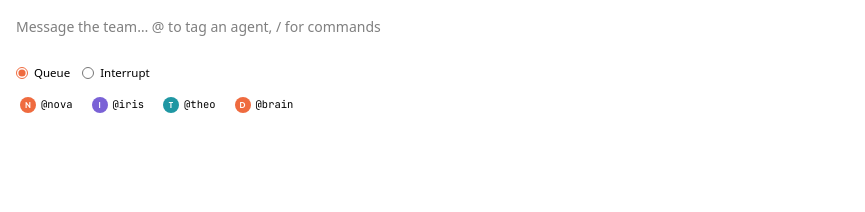
Domain composer › autocompletes a handle from the roster
The width and height of the screenshot is (865, 212).
Type "hi @th" into the text box labelled "Message" at (432,37), box [16, 16, 848, 58]
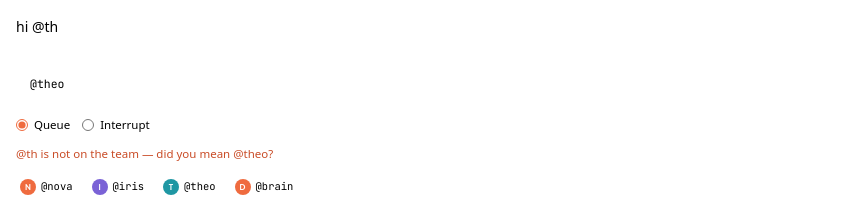
Click the option "@theo" at (47,84), box [30, 76, 64, 91]
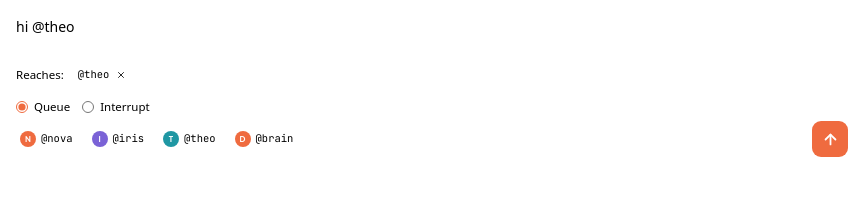
expect the text box named "Message" holds "hi @theo ": met, box [16, 16, 848, 58]
